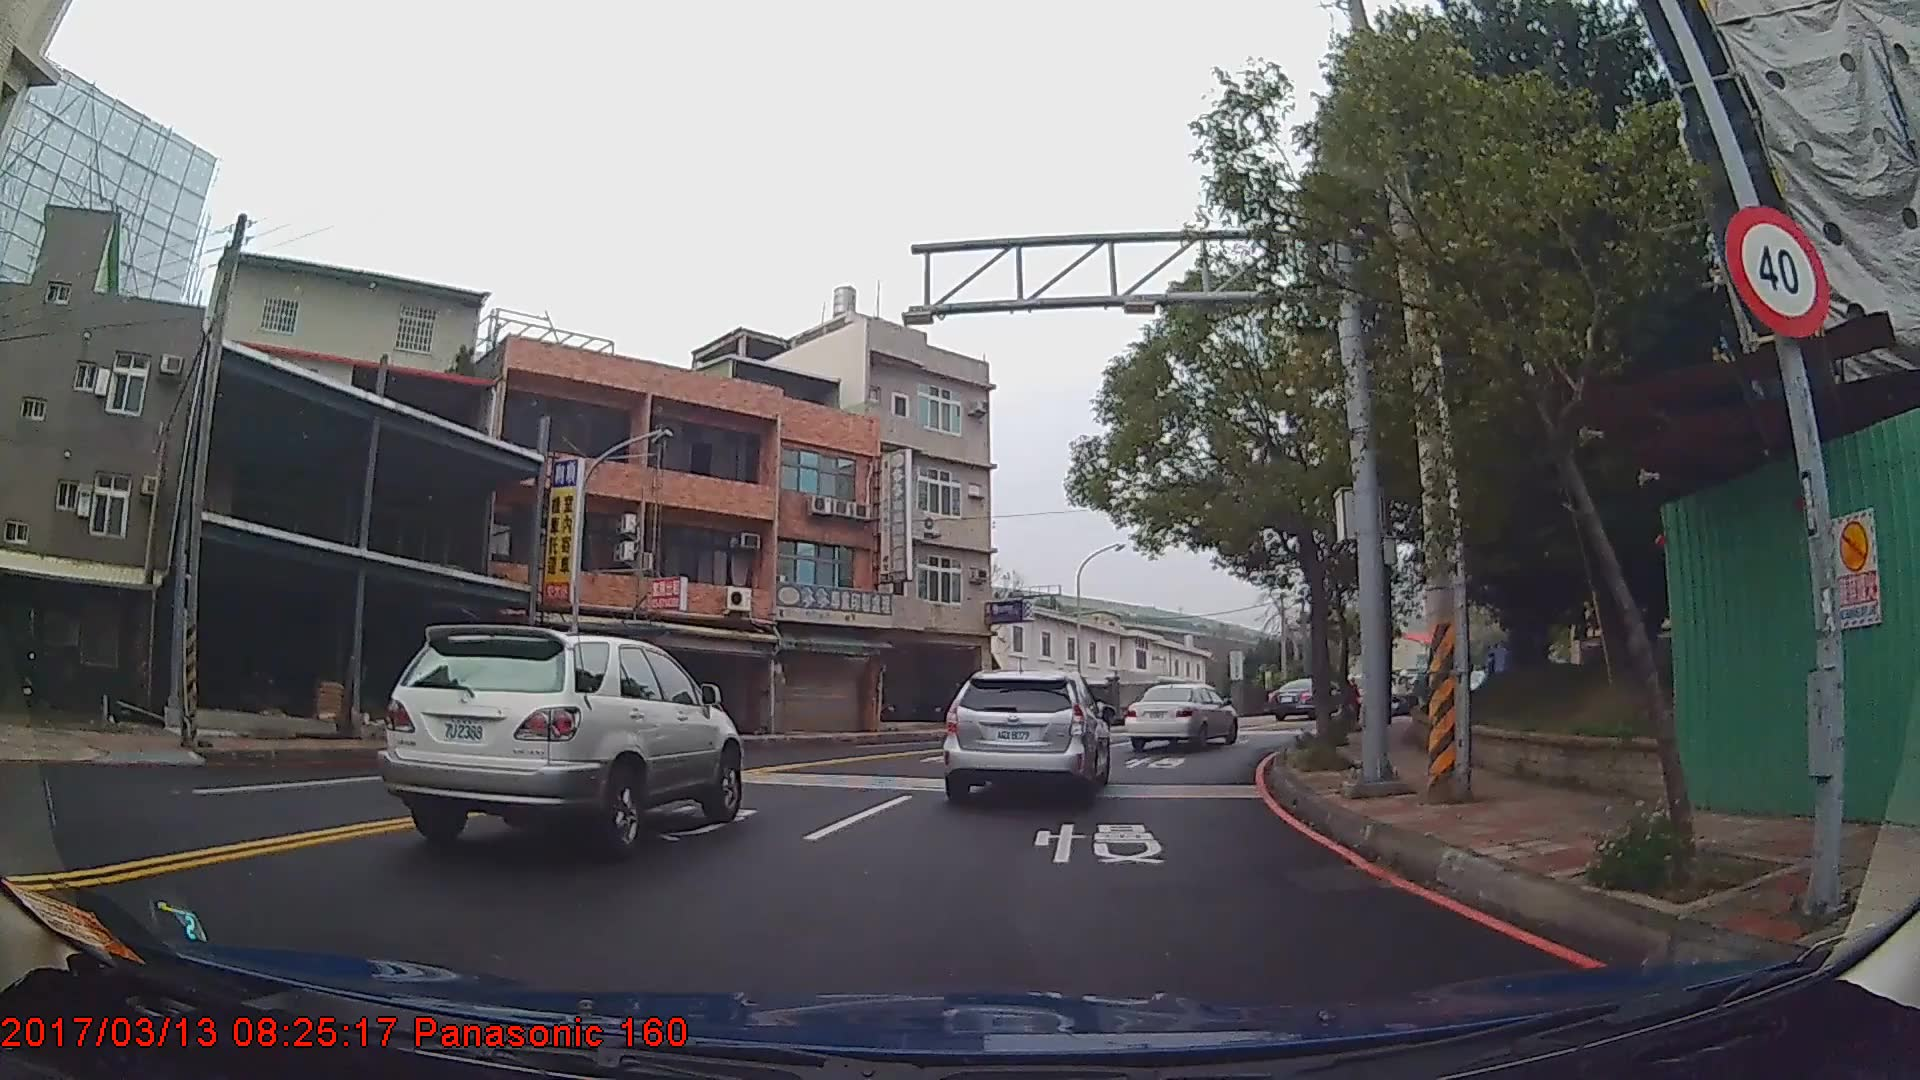vehicle: (375, 624, 746, 861), (940, 669, 1112, 804), (1124, 683, 1240, 752), (1265, 676, 1337, 721)
